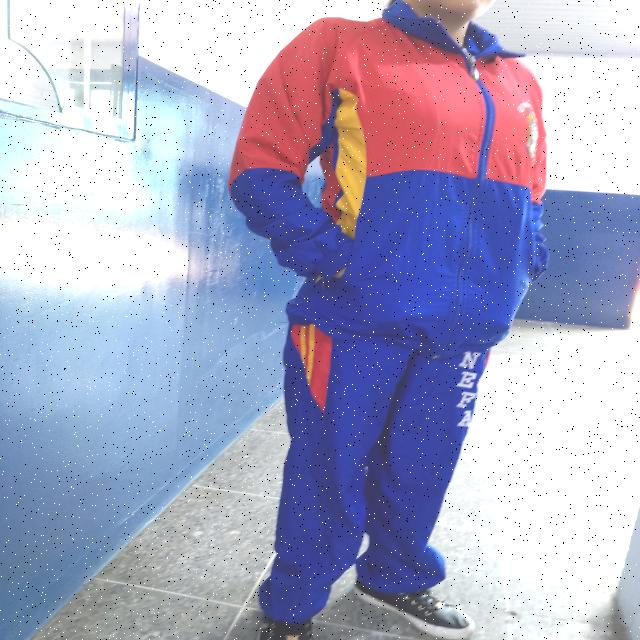chaqueta_unefa: (227, 0, 547, 356)
